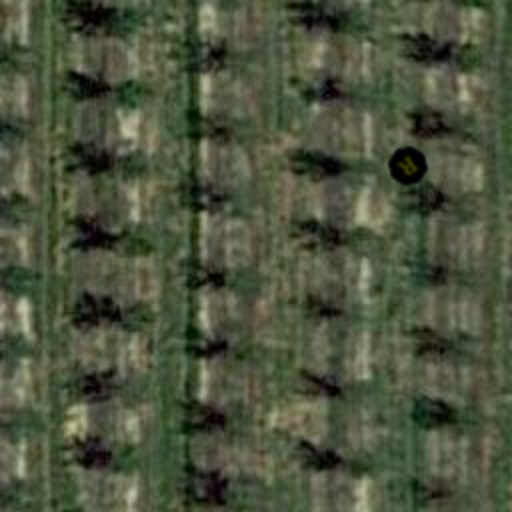octagon: (378, 136, 438, 196)
